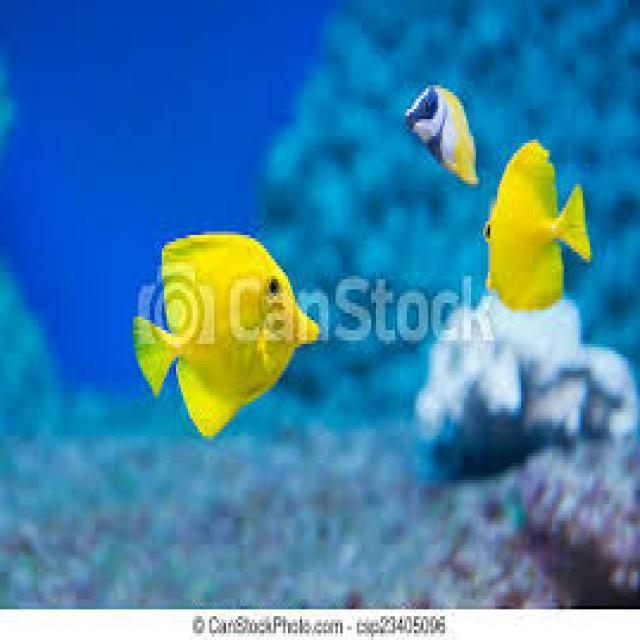YellowTang: (127, 214, 320, 439), (474, 127, 598, 327)
